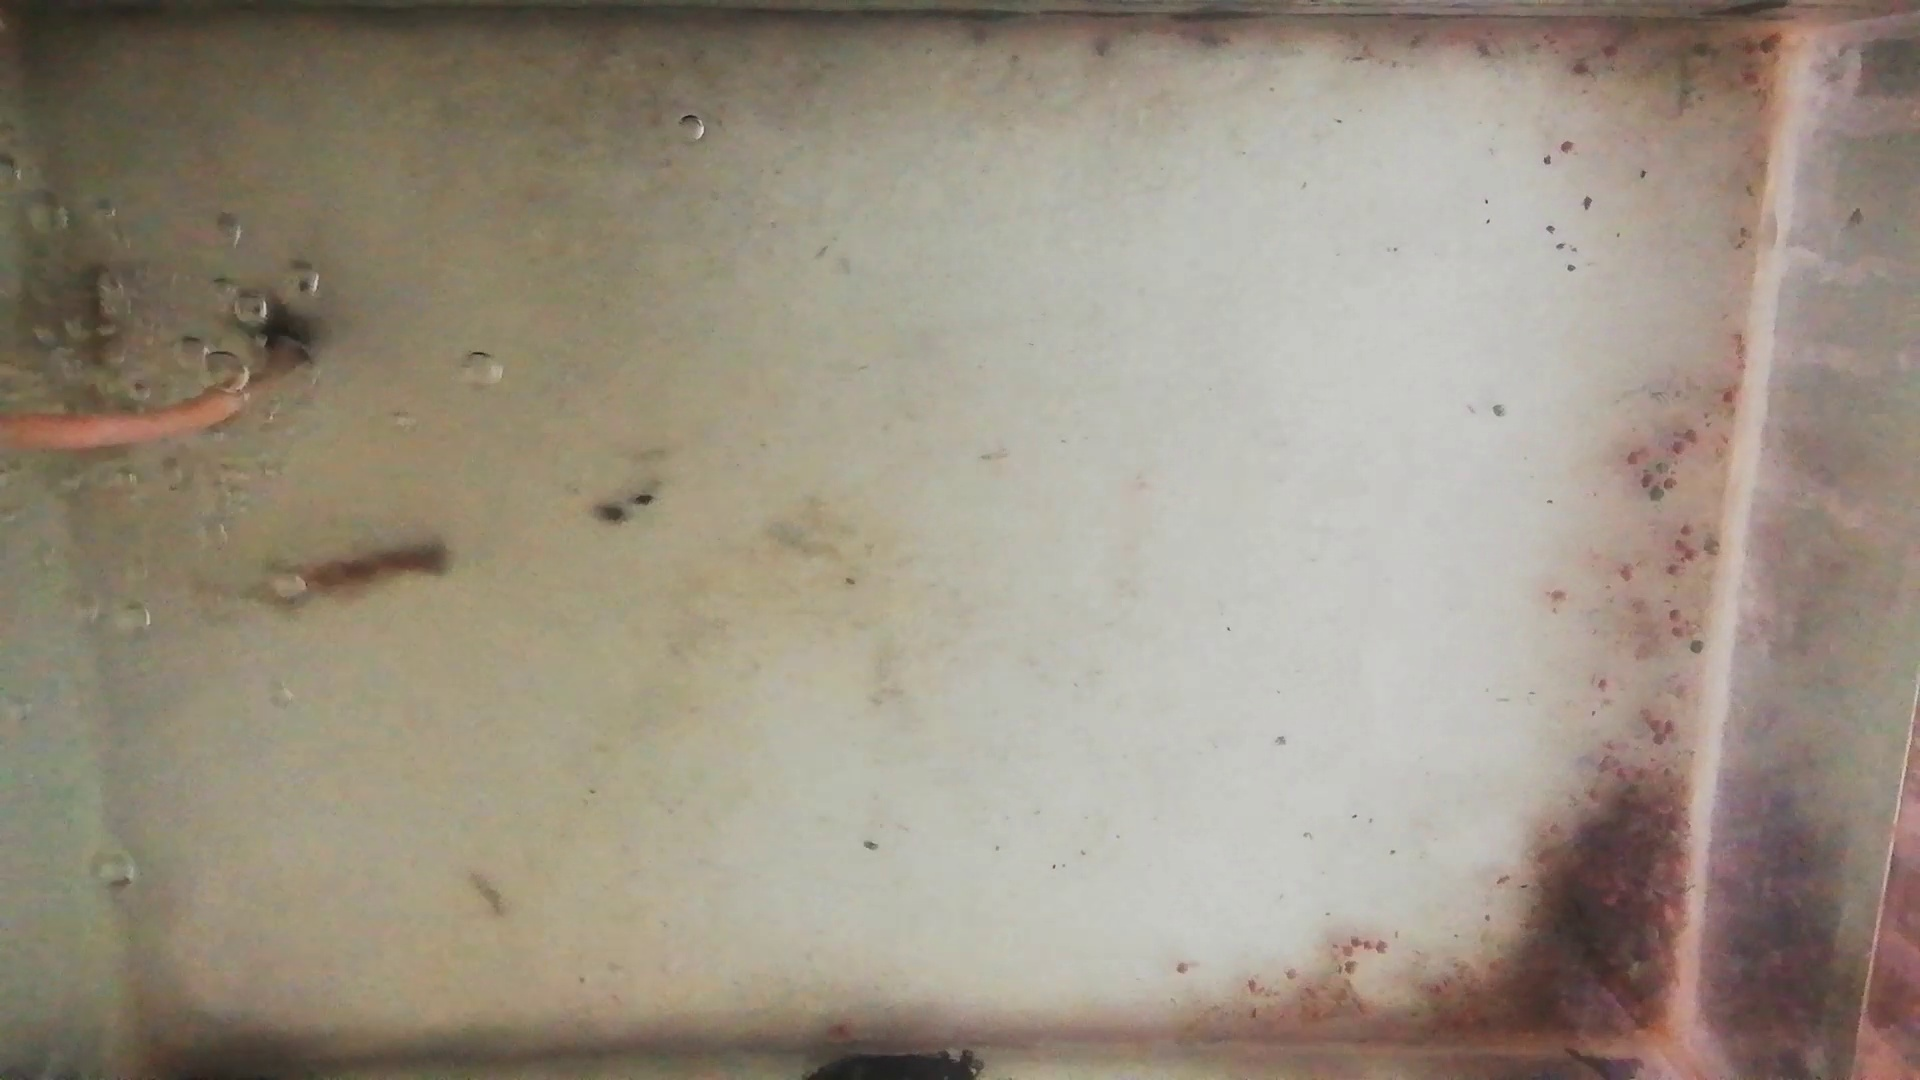fish: (251, 541, 458, 611), (69, 257, 138, 411)
